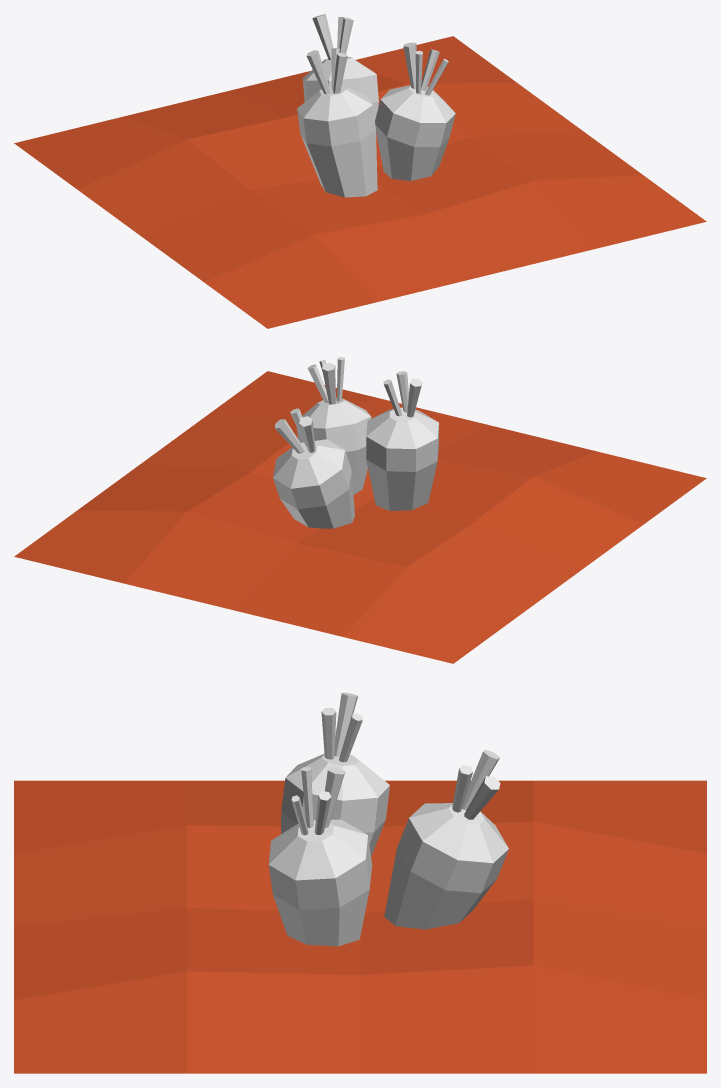
Rendered from carrot_garden.fbx.
3 renders of one model, top to bottom at view 1: azimuth 30°, elevation 25°; view 2: azimuth 150°, elevation 25°; view 3: azimuth 270°, elevation 25°, orthographic. The views are drawn at different scales.
Visible parts, largest first — view 1: ground, carrot; view 2: ground, carrot; view 3: ground, carrot.
Part boxes in pixels (x1,y1,x2,y2): ground: (14,36,706,328); carrot: (297,14,455,197); ground: (14,371,706,663); carrot: (273,357,438,528); ground: (14,780,706,1073); carrot: (268,692,508,946).
Bounding box in the file's own units: 200 × 77.86 × 200.
